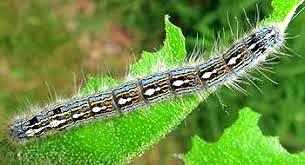Caterpillar: (6, 8, 295, 150)
